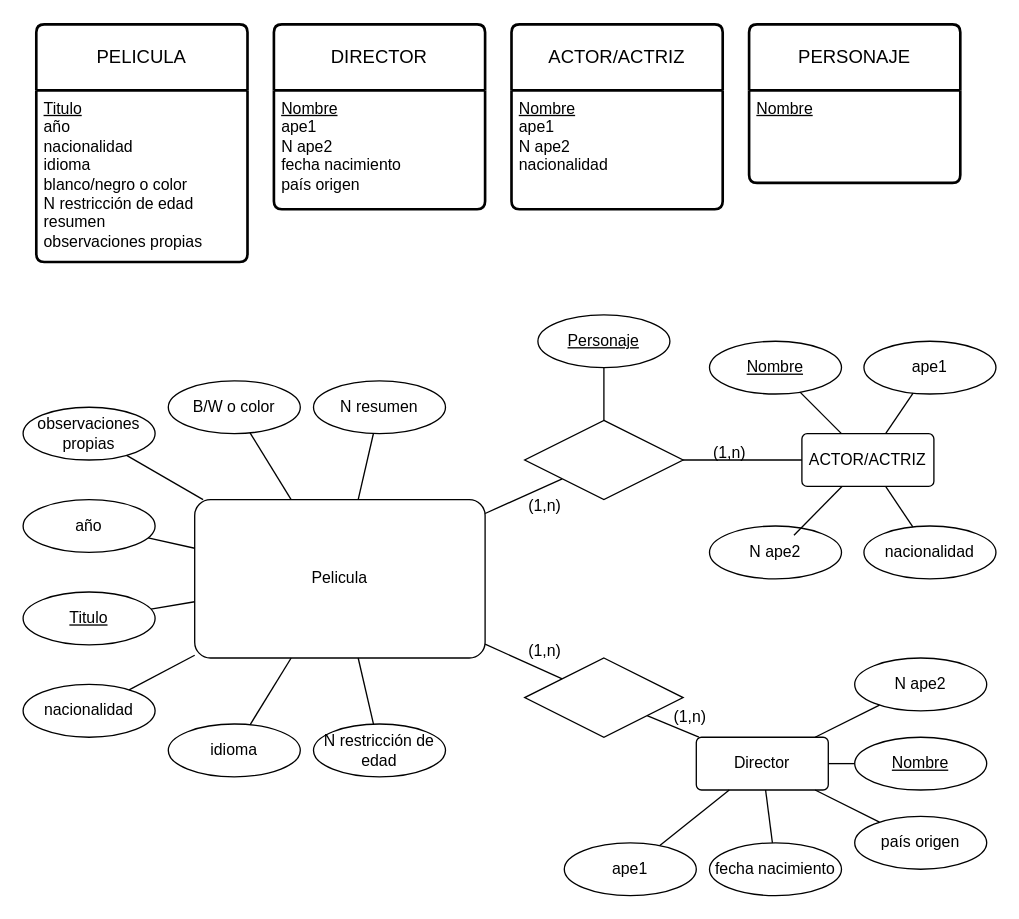
This 1019x919 diagram has some shape labels left out. The shapes that lost their labels are listed below. From the top down, each one's centre as x and y in pixels, then its label:
At (x=603, y=459): "PARTICIPAN NxN".
At (x=603, y=697): "DIRIGIDA NxM".
